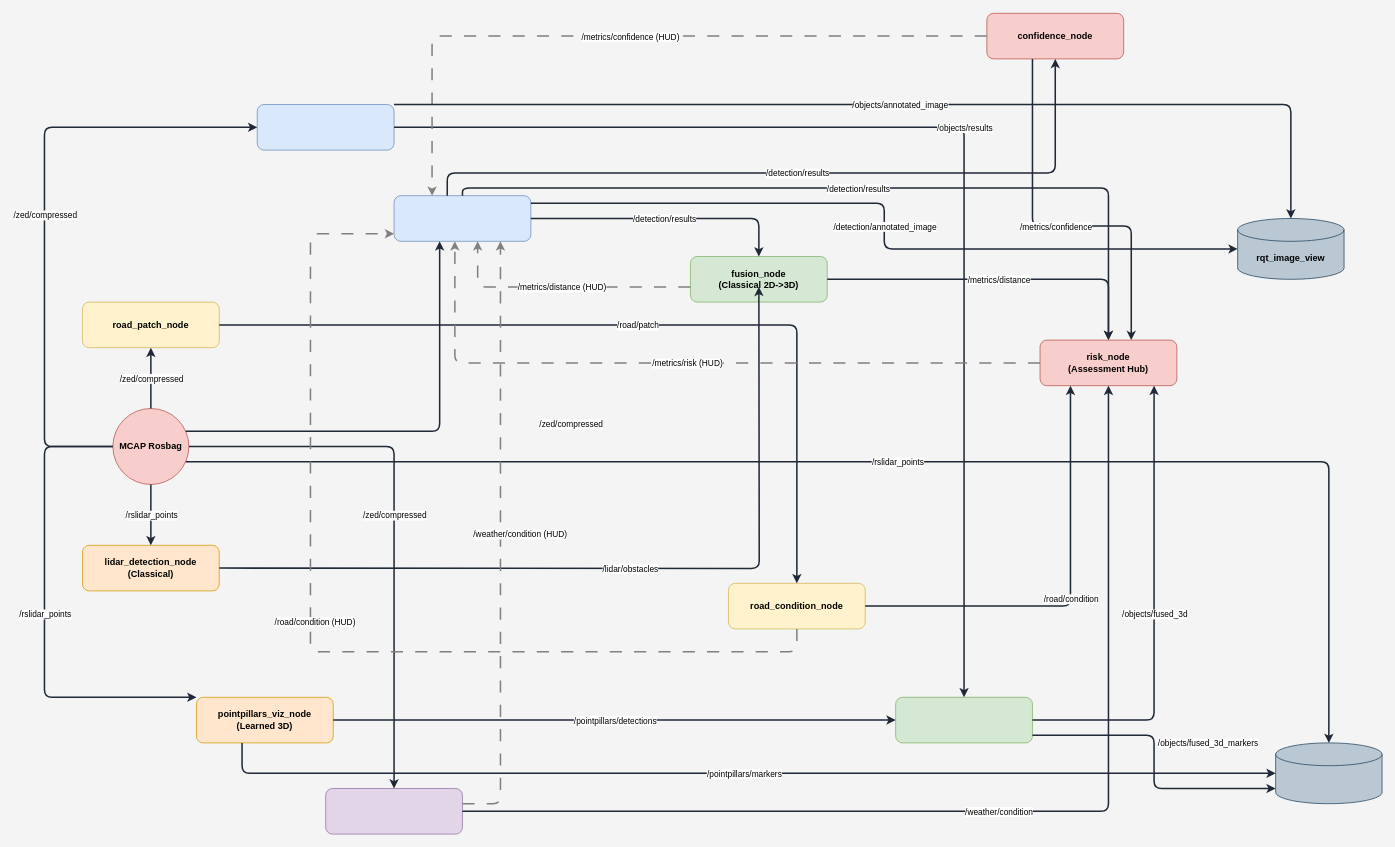
Image size: 1395x847. Some labels were removed from this diagram. Each missing label, with the box of its shape:
detector_node (Roadwork YOLO): (393, 195, 531, 241)
object_detector_node (COCO YOLO): (256, 104, 394, 150)
painted_fusion_node (PointPainting): (895, 697, 1032, 743)
rviz2: (1275, 742, 1382, 804)
weather_node: (325, 788, 462, 834)
